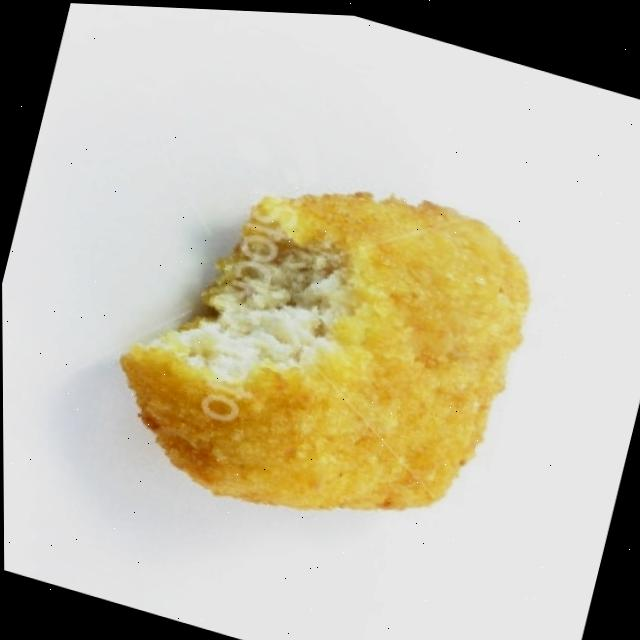鸡肉料理 含炸鸡: (68, 91, 595, 590)
